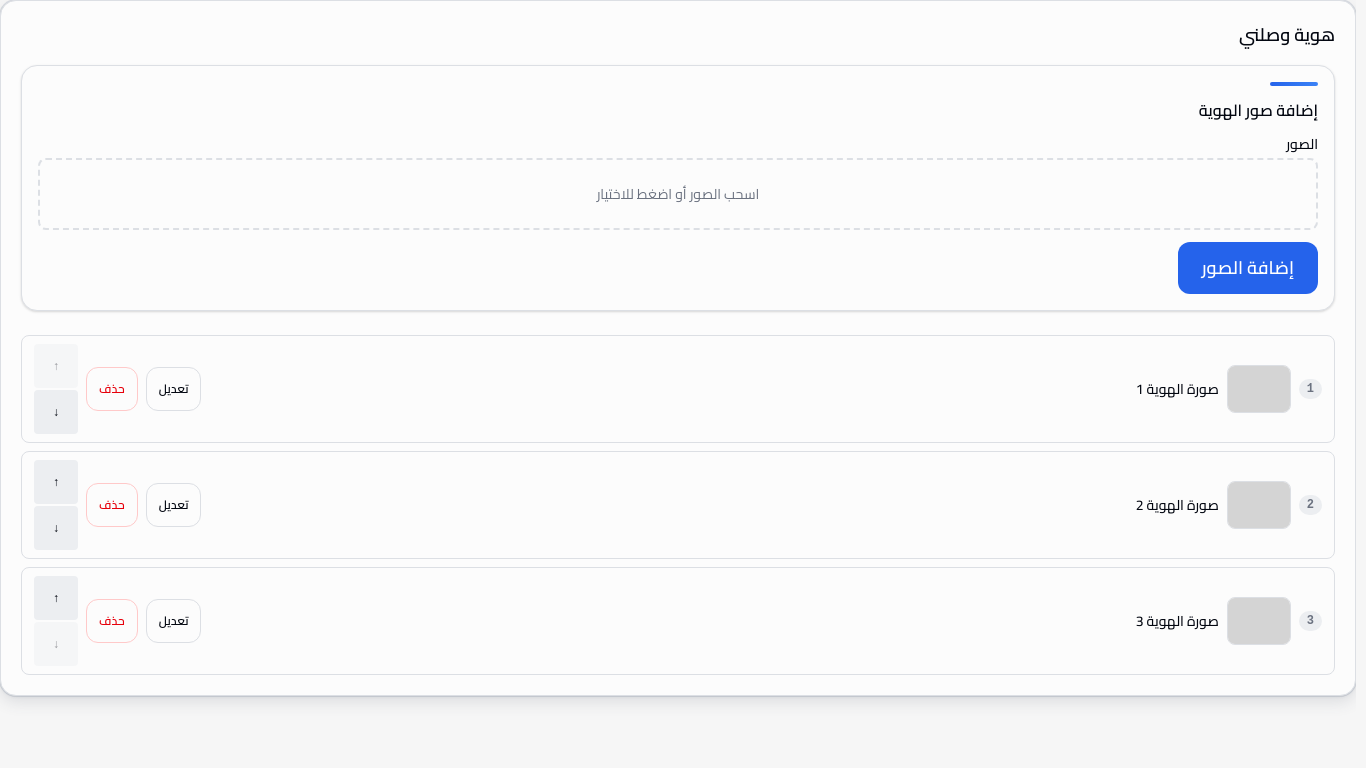
Scenario: IdentityAdmin brand-identity image panel › guards an add with no staged image instead of appending a blank entry
Expected: the list item with test id "identity-card-0" is shown, [21,335,1335,443]
Step 1. Click the button with test id "identity-add" → (1248, 268), box [1178,242,1318,294]
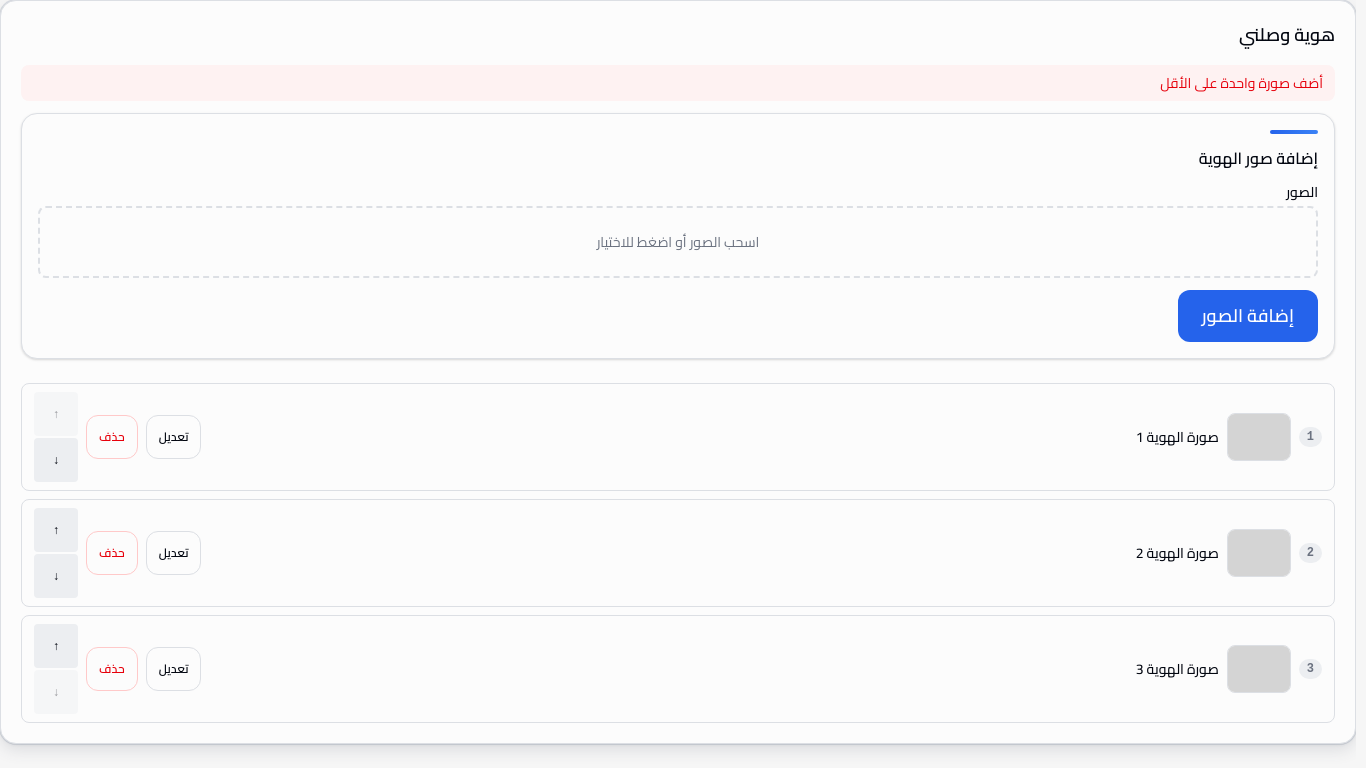
Now the message "أضف صورة واحدة على الأقل" is shown, box [21,65,1335,101]
